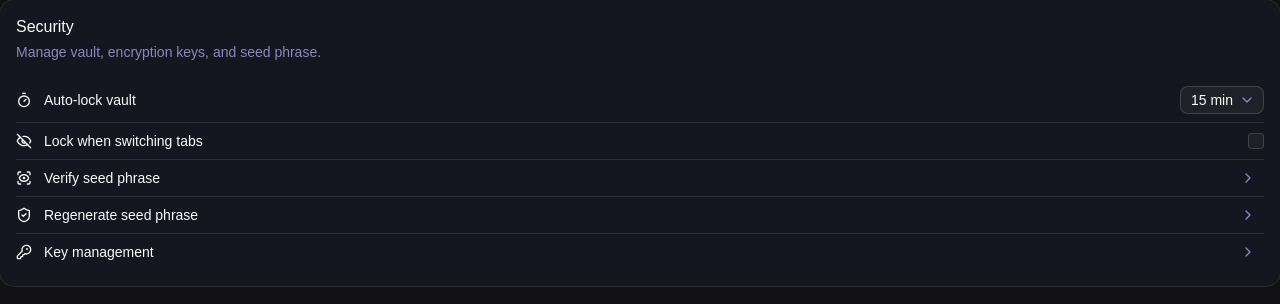
Test: SecuritySection › renders the auto-lock select with timeout options
Click the dropdown named "Auto-lock vault" at point(1222, 100), box x1=1180 y1=86 x2=1264 y2=114
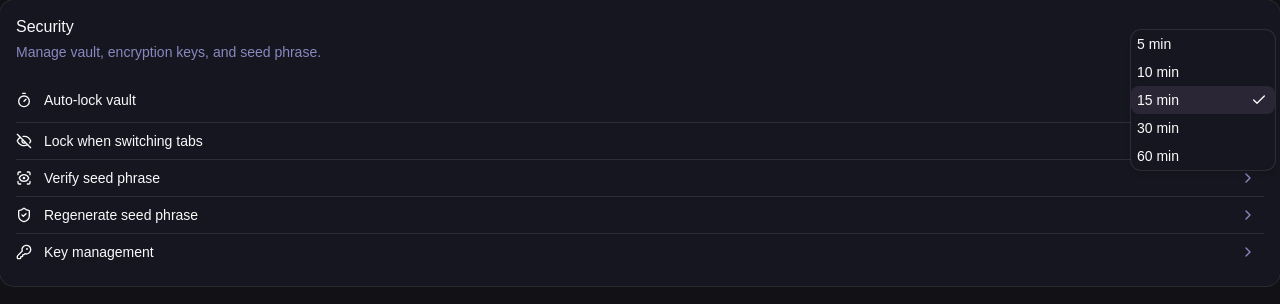
Expected: the number of options is 5, x1=1137 y1=36 x2=1171 y2=52; x1=1137 y1=64 x2=1179 y2=80; x1=1131 y1=86 x2=1275 y2=114; x1=1137 y1=120 x2=1179 y2=136; x1=1137 y1=148 x2=1179 y2=164
